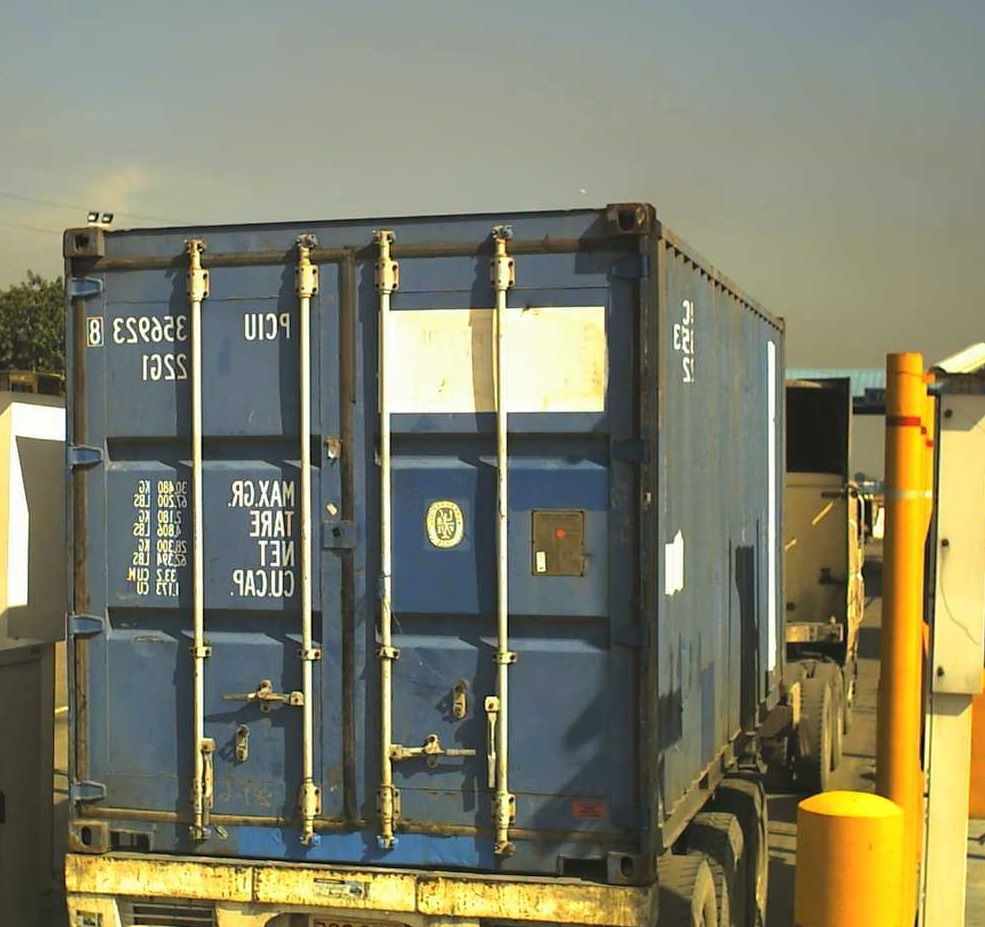container_door: (55, 214, 659, 898)
